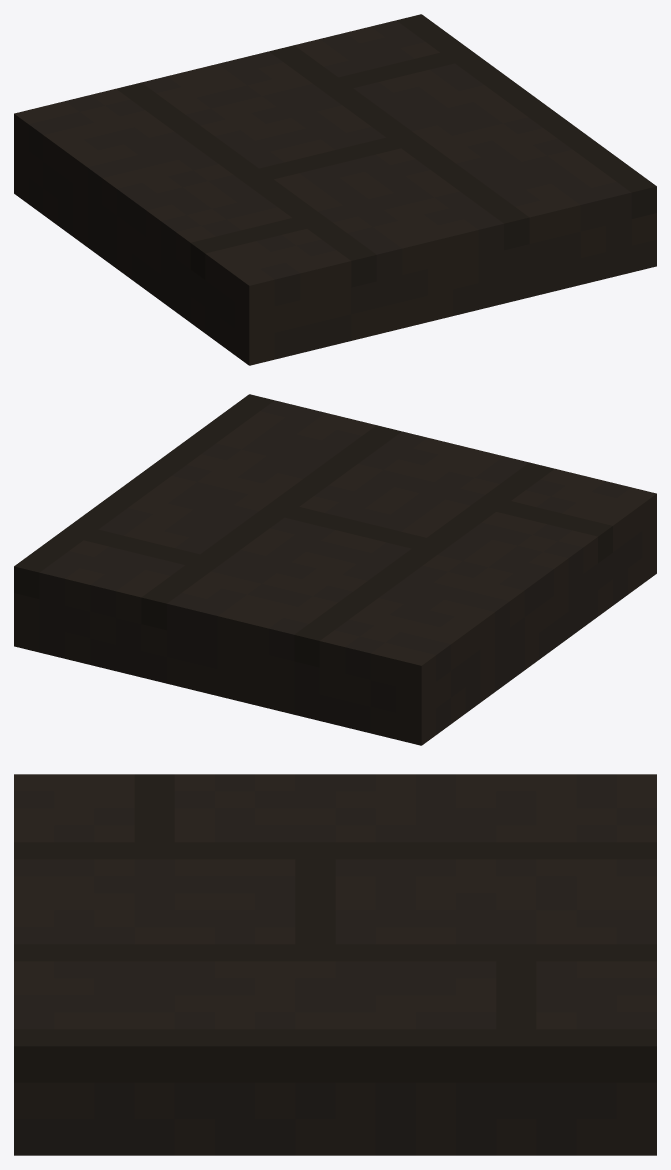
The model's file is tavern-64-floor_wood 2.obj.
The picture shows the model from 3 angles, top to bottom: view 1: azimuth 30°, elevation 25°; view 2: azimuth 150°, elevation 25°; view 3: azimuth 270°, elevation 25°; orthographic projection. The views are drawn at different scales.
Parts seen in each view (by area): view 1: floor_wood 2; view 2: floor_wood 2; view 3: floor_wood 2.
Boxes of the visible parts, x1=… form: floor_wood 2: x1=14, y1=14, x2=656, y2=365; floor_wood 2: x1=14, y1=394, x2=656, y2=745; floor_wood 2: x1=14, y1=774, x2=656, y2=1155.
Size of the model in its own units: 1.6 by 0.3 by 1.6.
Materials: 1 (1 with a texture image).
